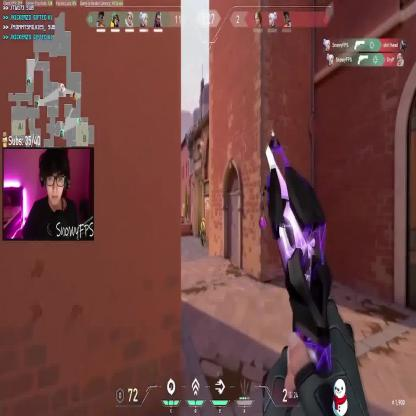enemy: (199, 216, 206, 247)
enemy_head: (201, 216, 205, 222)
